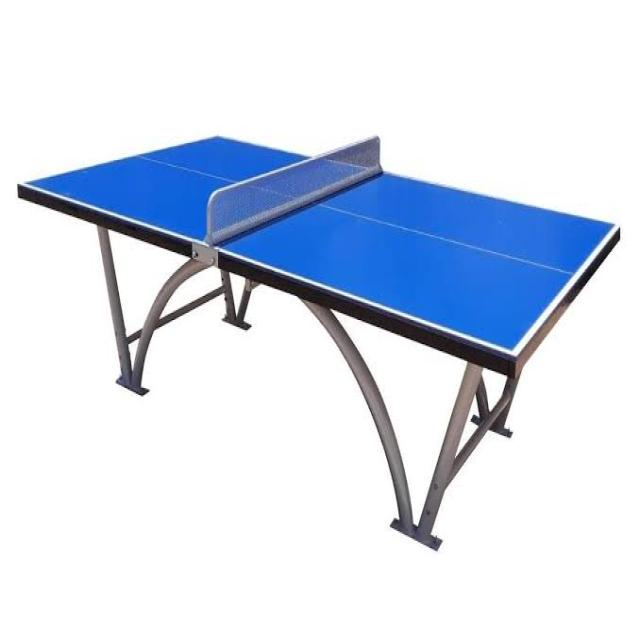TT Net: (203, 128, 387, 254)
TT Table: (19, 133, 618, 352)
